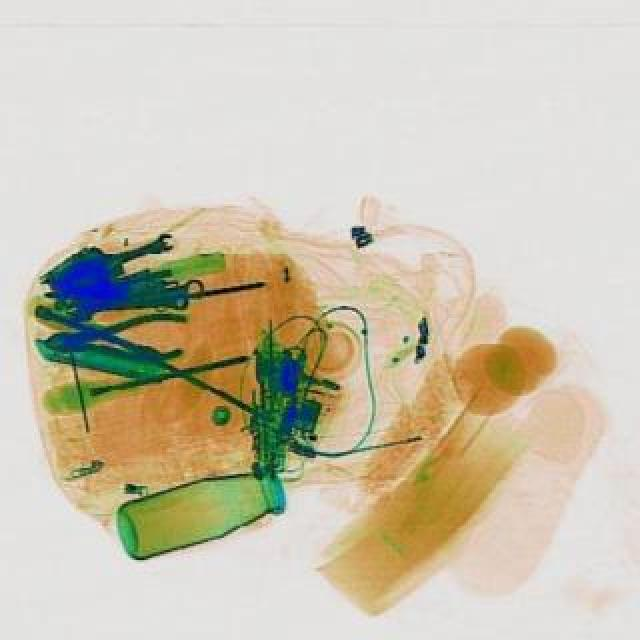scissors: (102, 228, 176, 268)
wrench: (40, 310, 186, 368)
